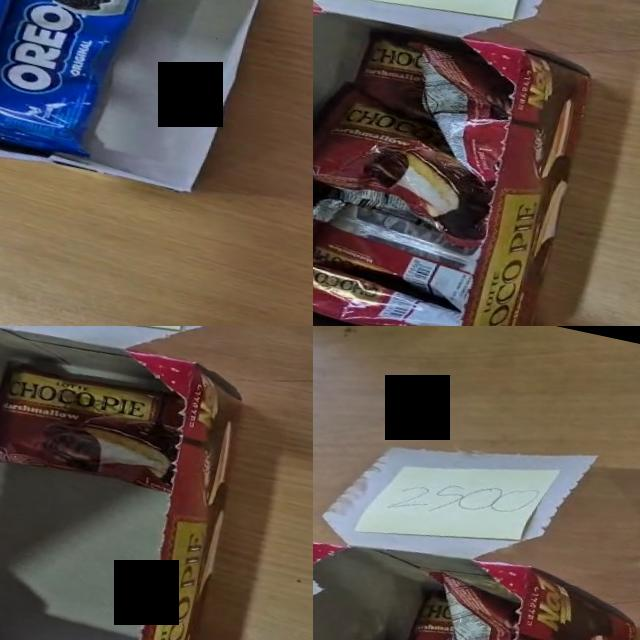Chocopie: (0, 354, 191, 499), (313, 89, 488, 238), (313, 198, 477, 308), (422, 45, 512, 179), (313, 263, 459, 326), (357, 32, 419, 113), (443, 574, 516, 640), (408, 589, 453, 640)
Oreo: (0, 0, 187, 169)
